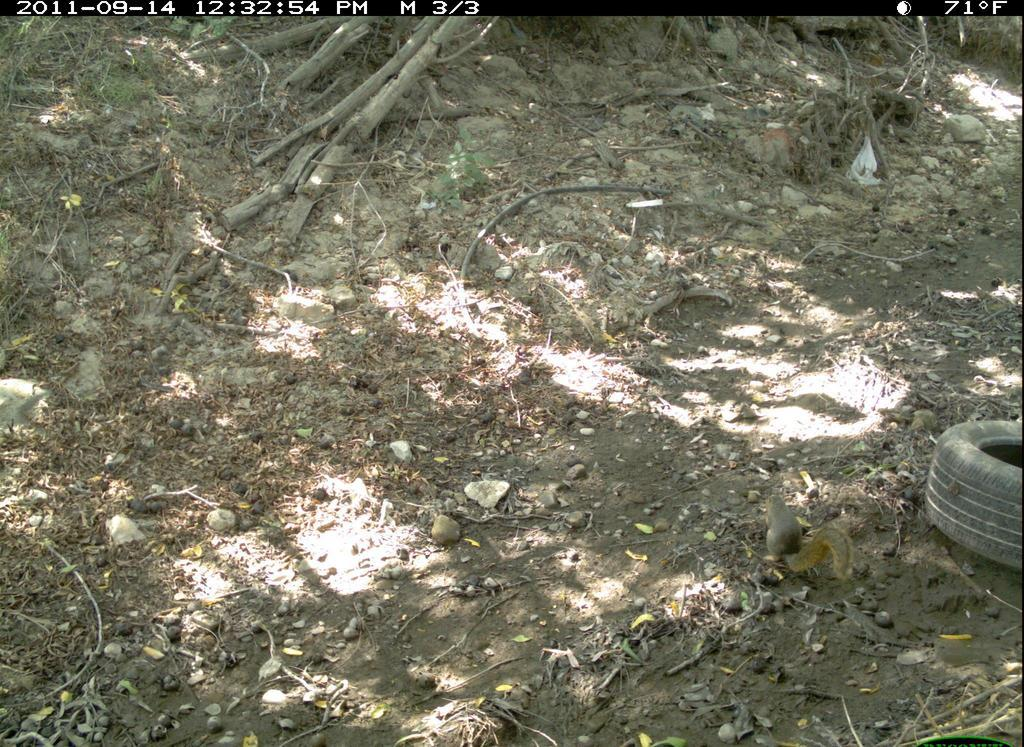squirrel: (747, 482, 877, 592)
